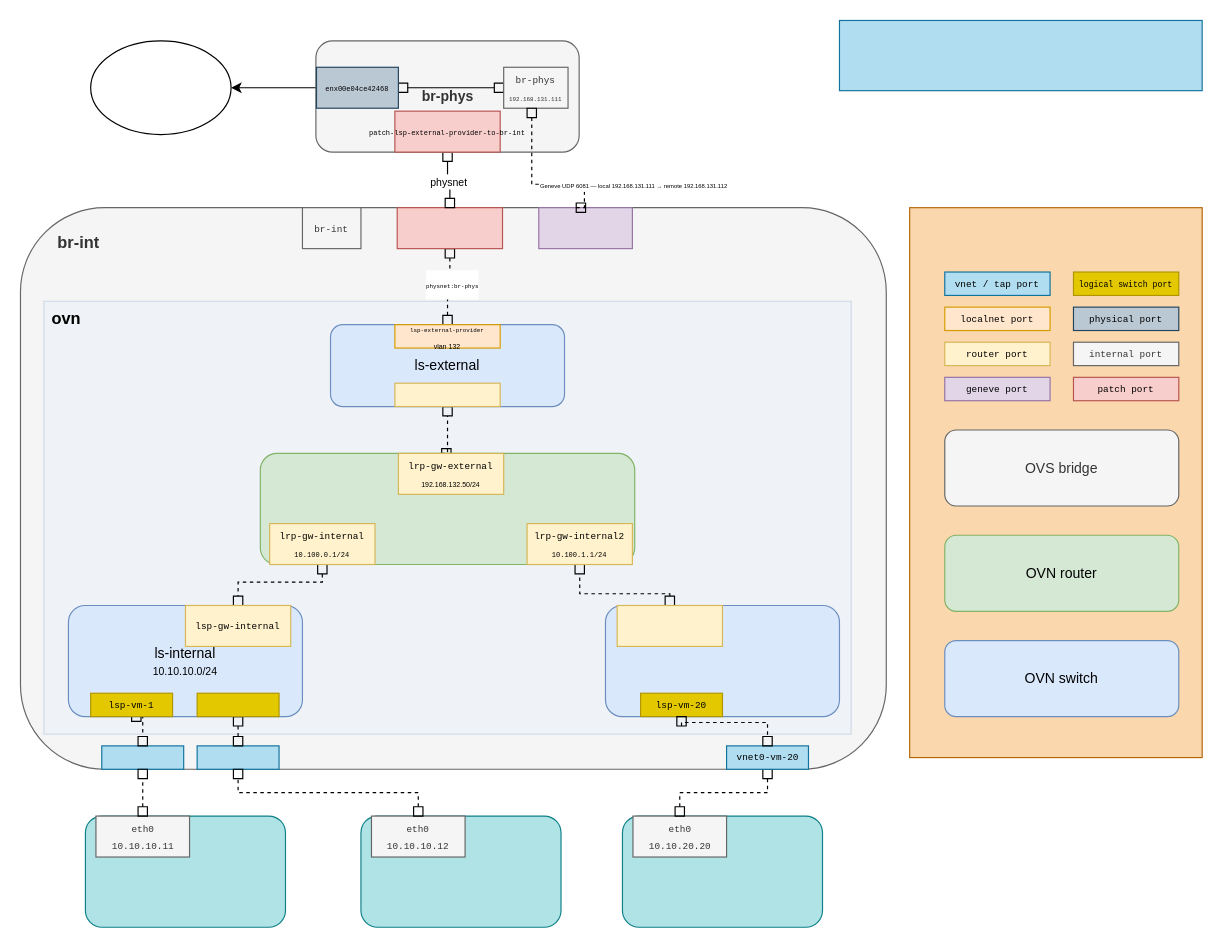
The diagram is 1223 pixels wide and 948 high, and some of its shapes have lost their labels. Each missing label, with the box of its shape:
KVM Host Logical networking constructs Physical / OVS / OVN: (838, 19, 1202, 91)
Legend: (909, 207, 1202, 758)
lr-gw snat 10.10.10.0/24->192.168.132.50 snat 10.10.20.0/24->192.168.132.50: (259, 452, 635, 565)
ls-internal2 10.10.20.0/24: (604, 604, 839, 717)
lsp-gw-external: (394, 382, 500, 407)
lsp-gw-internal2: (616, 604, 722, 646)
lsp-vm-2: (196, 692, 279, 717)
ovn-kvm-12-0 remote-ip 192.168.131.112: (538, 207, 632, 249)
patch-br-int-to-lsp-external-provider: (396, 207, 503, 249)
physical world: (90, 40, 231, 135)
vm-1: (84, 815, 285, 927)
vm-2: (360, 815, 561, 927)
vm-20: (621, 815, 823, 927)
vnet0-vm-1: (101, 745, 184, 769)
vnet1-vm-2: (196, 745, 279, 769)
